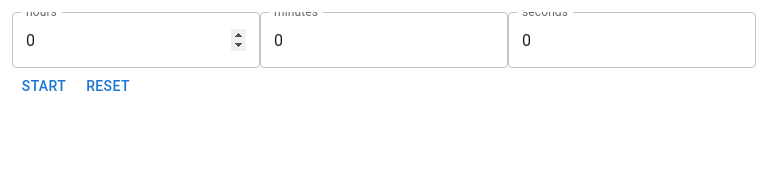
Test case: timer functionality › should decrease the second by 1 after a 1 second delay
Replace the text in the number field labelled "seconds" with "5" at coordinates (632, 40), box [508, 12, 756, 68]
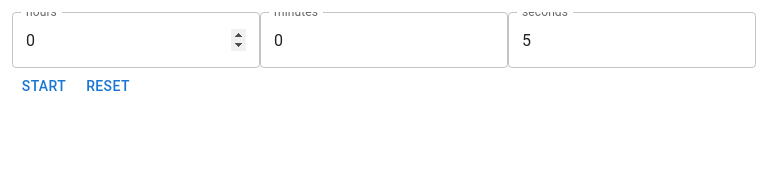
Click the button "start" at coordinates (44, 86), box [12, 68, 76, 104]
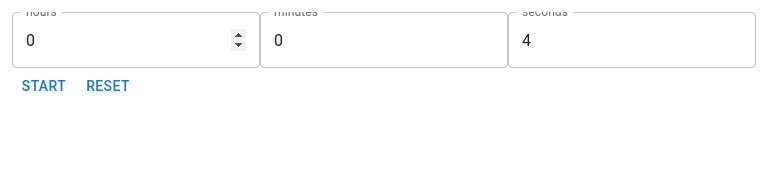
Check: the number field labelled "hours" holds "0", box [12, 12, 260, 68]
Check: the number field labelled "seconds" holds "4", box [508, 12, 756, 68]
